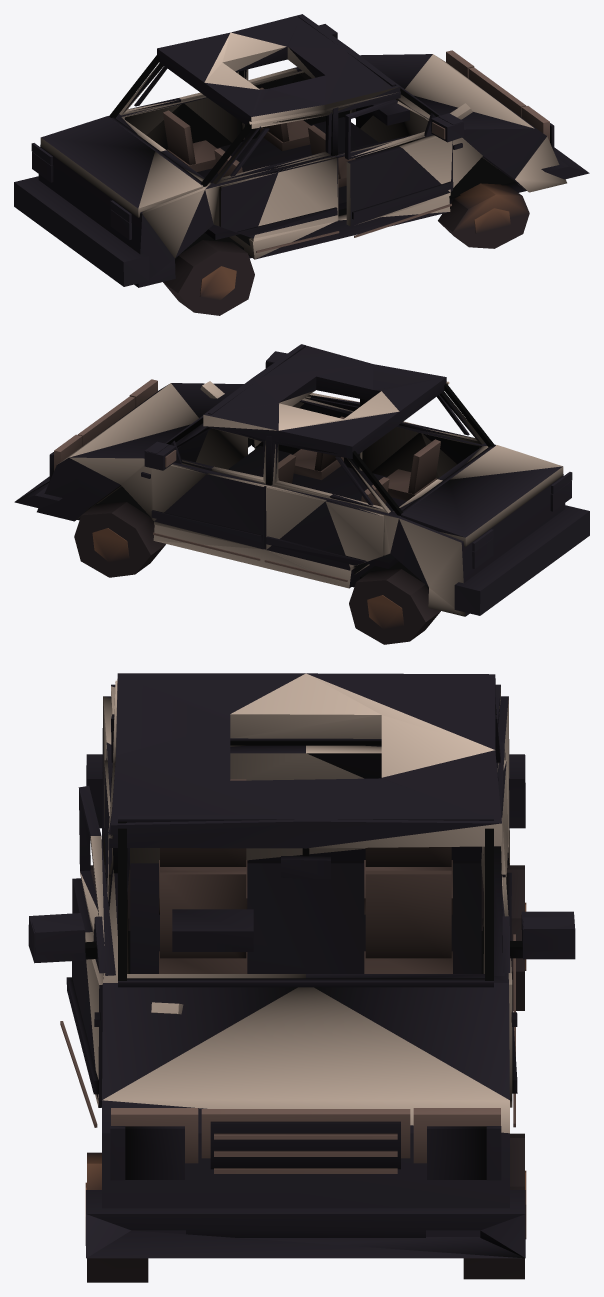
Rendered from model.burned.lod2.glb.
3 renders of one model, top to bottom at view 1: azimuth 30°, elevation 25°; view 2: azimuth 150°, elevation 25°; view 3: azimuth 270°, elevation 25°, orthographic. The views are drawn at different scales.
Parts seen in each view (by area): view 1: body_pal_uiDark, body_pal_picketWhite, body_pal_sidewalk, wheelRL_pal_sidewalk, wheelFL_pal_sidewalk; view 2: body_pal_uiDark, body_pal_picketWhite, body_pal_sidewalk, wheelFR_pal_sidewalk, wheelRR_pal_sidewalk; view 3: body_pal_uiDark, body_pal_picketWhite, body_pal_sidewalk, wheelFR_pal_sidewalk, wheelFL_pal_sidewalk, wheelRR_pal_sidewalk.
Part boxes in pixels (x1=…): body_pal_uiDark: x1=14, y1=14, x2=589, y2=287; body_pal_picketWhite: x1=40, y1=32, x2=566, y2=259; body_pal_sidewalk: x1=163, y1=50, x2=549, y2=252; wheelRL_pal_sidewalk: x1=163, y1=240, x2=254, y2=315; wheelFL_pal_sidewalk: x1=438, y1=183, x2=529, y2=248; body_pal_uiDark: x1=14, y1=344, x2=589, y2=616; body_pal_picketWhite: x1=59, y1=381, x2=563, y2=616; body_pal_sidewalk: x1=54, y1=379, x2=440, y2=581; wheelFR_pal_sidewalk: x1=74, y1=502, x2=165, y2=577; wheelRR_pal_sidewalk: x1=349, y1=569, x2=440, y2=644; body_pal_uiDark: x1=28, y1=673, x2=575, y2=1258; body_pal_picketWhite: x1=80, y1=673, x2=512, y2=1133; body_pal_sidewalk: x1=60, y1=779, x2=515, y2=1173; wheelFR_pal_sidewalk: x1=463, y1=1133, x2=526, y2=1279; wheelFL_pal_sidewalk: x1=85, y1=1152, x2=148, y2=1282; wheelRR_pal_sidewalk: x1=481, y1=865, x2=526, y2=1010.
Size of the model in its own units: 4.75 by 1.79 by 2.41.
